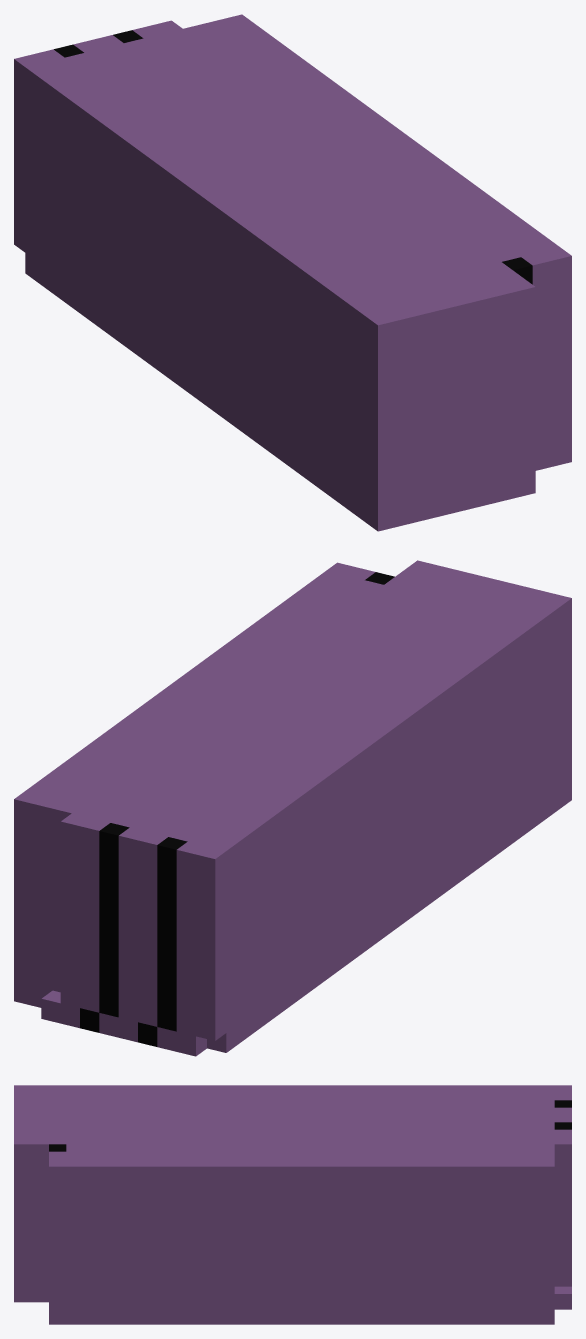
3 views of the same model, one above another, from view 1: azimuth 30°, elevation 25°; view 2: azimuth 150°, elevation 25°; view 3: azimuth 270°, elevation 25° (orthographic). The views are drawn at different scales.
Bounding box in the file's own units: 0.55 × 0.5 × 1.6.
